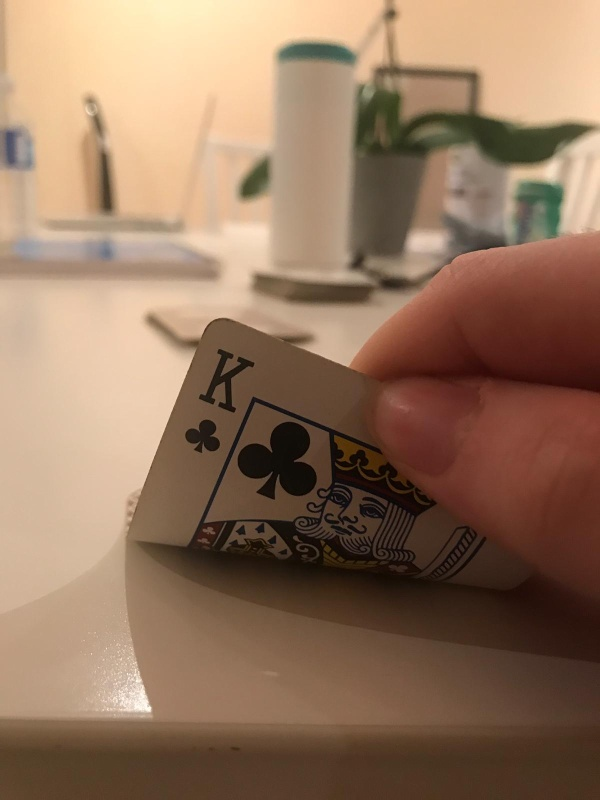Ck: (179, 343, 256, 457)
